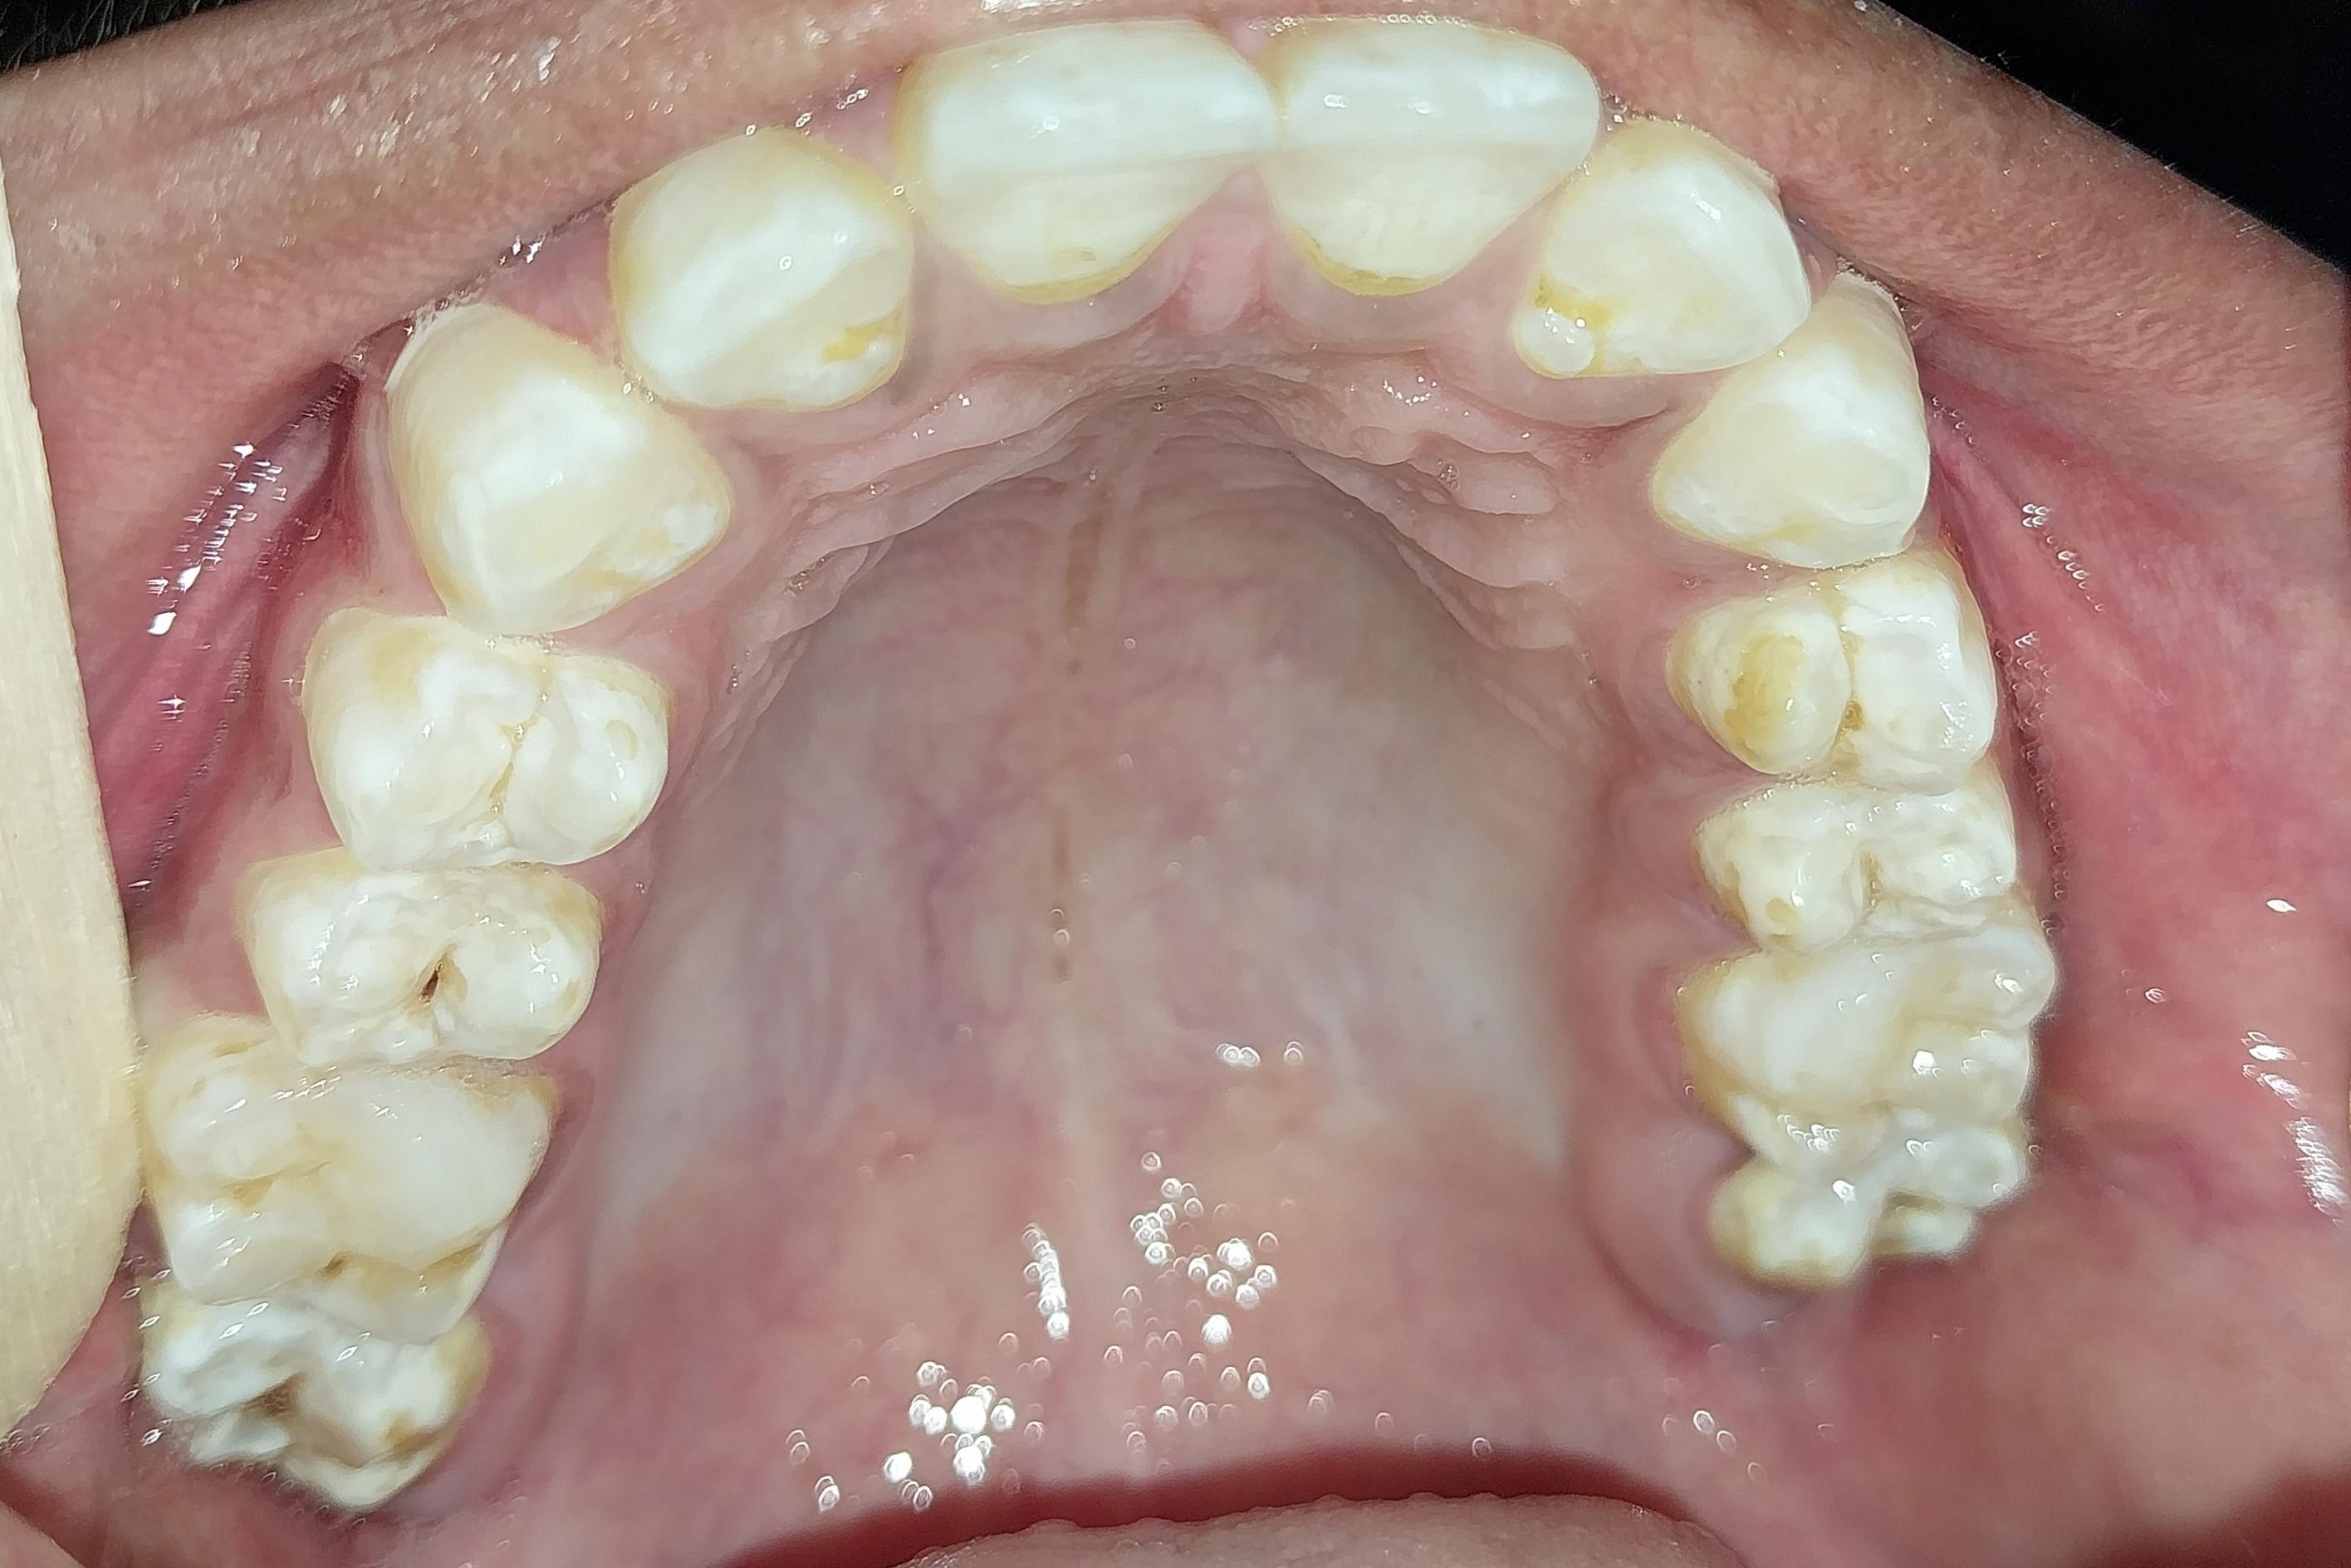D: (122, 1274, 495, 1510), (235, 856, 591, 1084)
